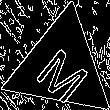M_NE: (28, 33, 93, 100)
